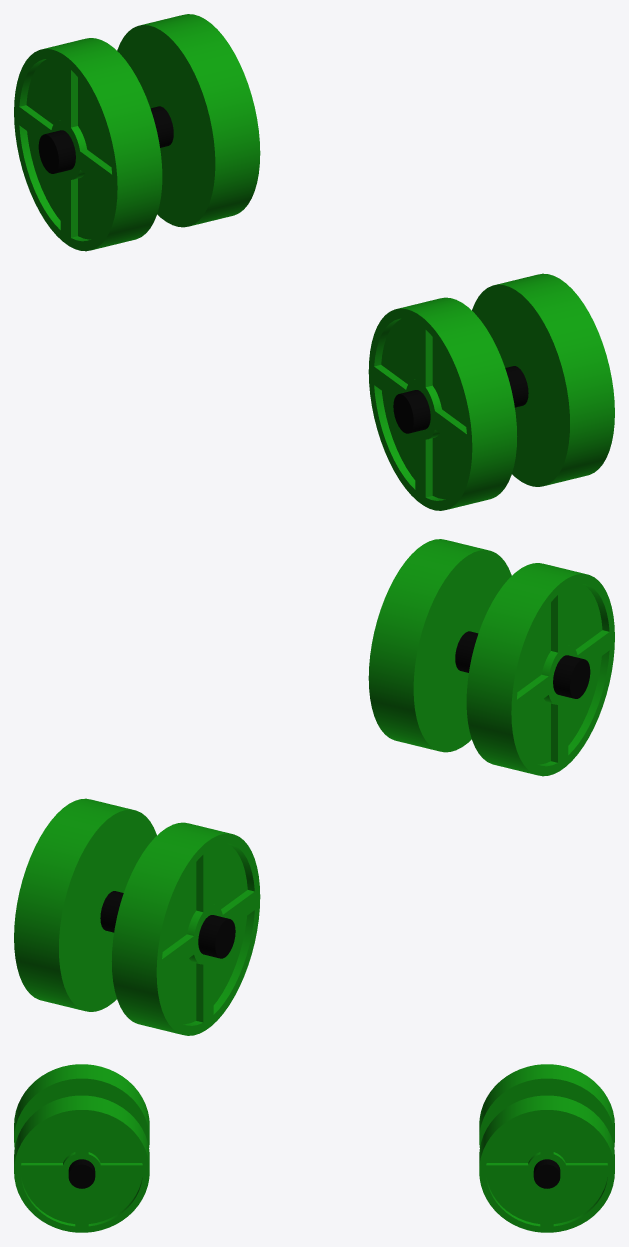
3 views of the same model, one above another, from view 1: azimuth 30°, elevation 25°; view 2: azimuth 150°, elevation 25°; view 3: azimuth 270°, elevation 25° (orthographic). The views are drawn at different scales.
Parts seen in each view (by area): view 1: Sólido1 (×2); view 2: Sólido1 (×2); view 3: Sólido1 (×2).
Boxes of the visible parts, bbox=[...] form: Sólido1 (×2): bbox=[14, 14, 614, 510]; Sólido1 (×2): bbox=[14, 539, 614, 1035]; Sólido1 (×2): bbox=[14, 1064, 614, 1232].
Size of the model in its own units: 0.1 by 0.1014 by 0.4496.
